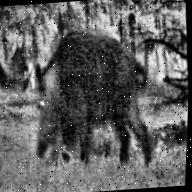boar: (20, 25, 160, 176)
